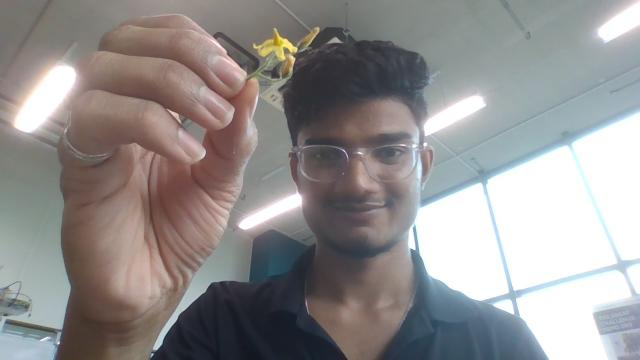Anthesis: (252, 27, 298, 62), (296, 27, 320, 51), (281, 54, 296, 79)
